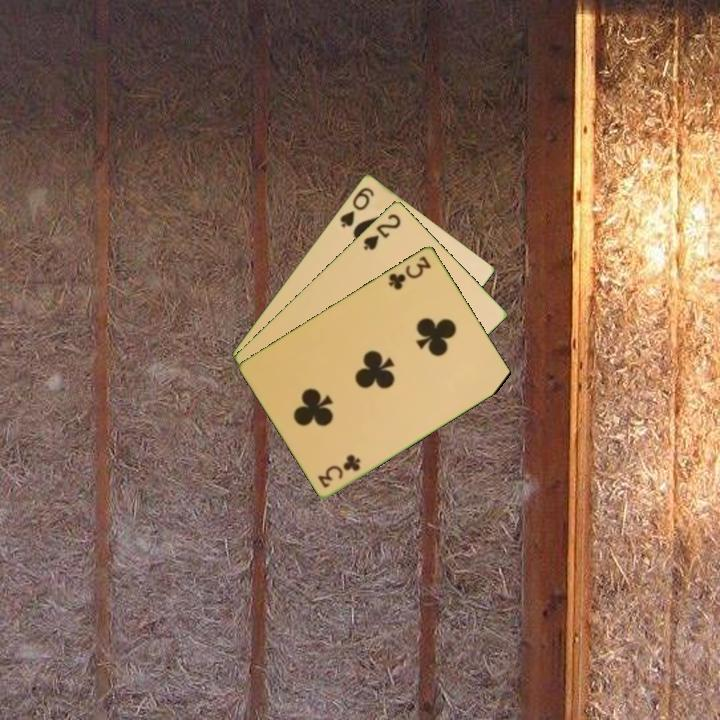2s: (360, 210, 404, 253)
3c: (385, 252, 434, 293), (314, 451, 364, 490)
6s: (336, 183, 377, 230)
